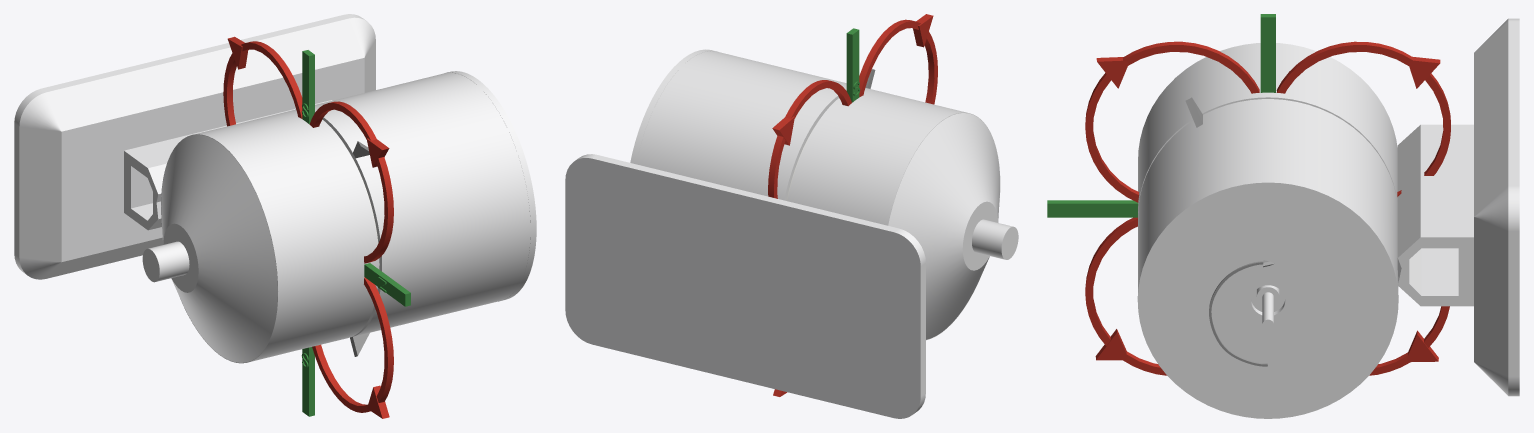
Rendered from AsyncEngine v3.fbx.
3 views of the same model, side by side, from view 1: azimuth 30°, elevation 25°; view 2: azimuth 150°, elevation 25°; view 3: azimuth 270°, elevation 25° (orthographic). The views are drawn at different scales.
Visible parts, largest first — view 1: двигатель v25; view 2: двигатель v25; view 3: двигатель v25.
Part boxes in pixels (bbox=[...]): двигатель v25: bbox=[14, 14, 536, 418]; двигатель v25: bbox=[565, 14, 1018, 418]; двигатель v25: bbox=[1047, 14, 1519, 418].
Bounding box in the file's own units: 66.49 × 58 × 62.
